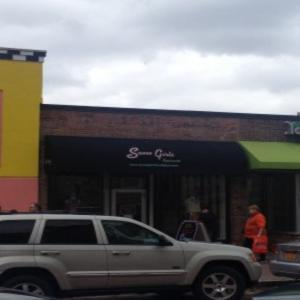Vehicle-registration-plate: (287, 252, 299, 261)
